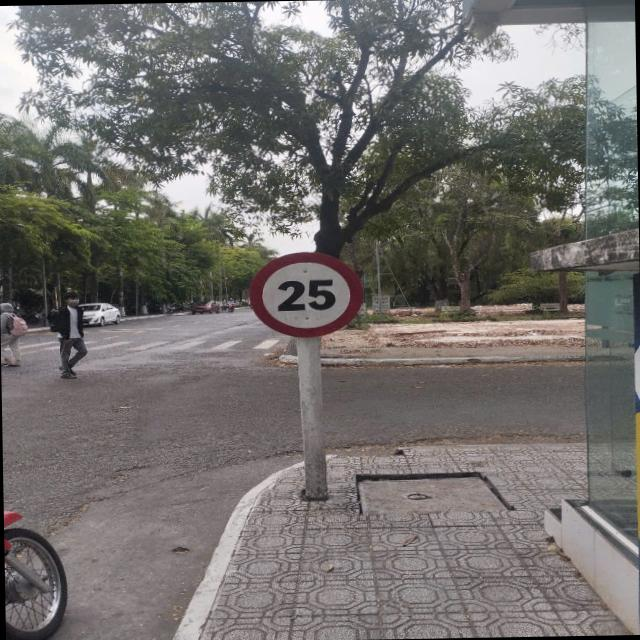Tre_Em: (246, 248, 366, 339)
